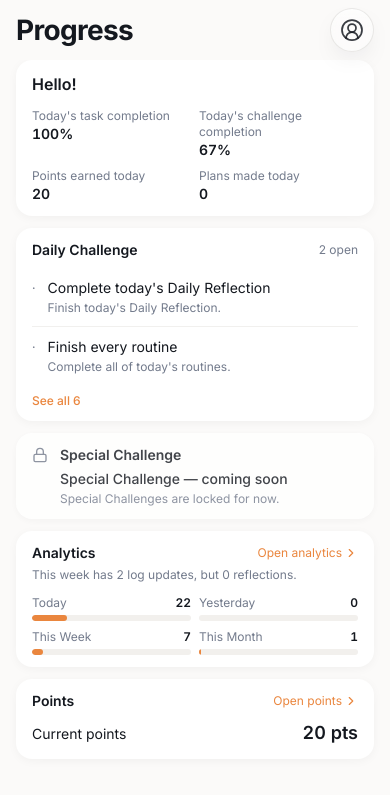
Test: Phase 15-A Progress › assigns 6 daily challenges and keeps the top to incomplete slots
What coordinates should you click on to do the following:
click the button with test id "daily-challenge-section"
I would click on:
 (195, 324)
Its box is left=16, top=228, right=374, bottom=421.
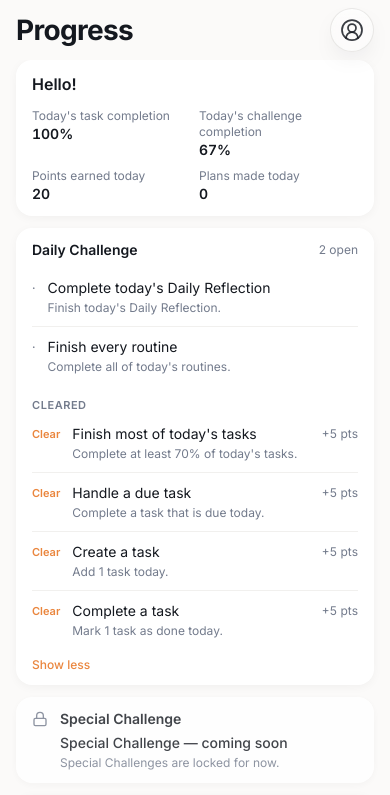
Check: the number of list items with test id "daily-challenge-row" is 6, box left=32, top=279, right=270, bottom=315; left=32, top=326, right=358, bottom=385; left=32, top=414, right=358, bottom=472; left=32, top=472, right=358, bottom=530; left=32, top=530, right=358, bottom=590; left=32, top=590, right=358, bottom=648
